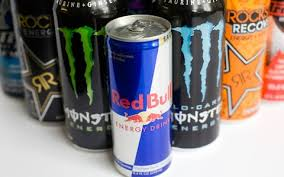can: (102, 14, 181, 176)
